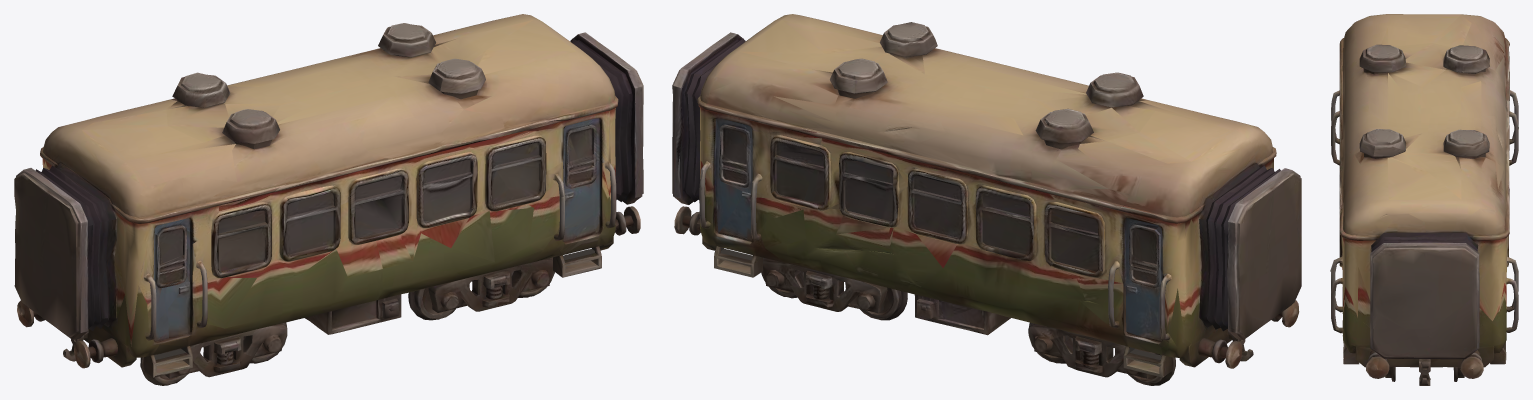
File: train_coach.glb
3 renders of one model, left to right at view 1: azimuth 30°, elevation 25°; view 2: azimuth 150°, elevation 25°; view 3: azimuth 270°, elevation 25°, orthographic. The views are drawn at different scales.
Parts seen in each view (by area): view 1: body, door_front_r, door_front_l, wheel_5; view 2: body, door_back_r, door_back_l, wheel_6; view 3: body.
Part boxes in pixels (x1,y1,x2,y2): body: (14, 14, 643, 378); door_front_r: (561, 123, 602, 265); door_front_l: (153, 223, 191, 364); wheel_5: (408, 287, 455, 320); body: (672, 14, 1301, 378); door_back_r: (713, 123, 754, 265); door_back_l: (1124, 223, 1163, 365); wheel_6: (860, 287, 907, 320); body: (1330, 14, 1518, 385).
Size of the model in its own units: 8 by 3.43 by 2.74.
Materials: 9 (4 with a texture image).
